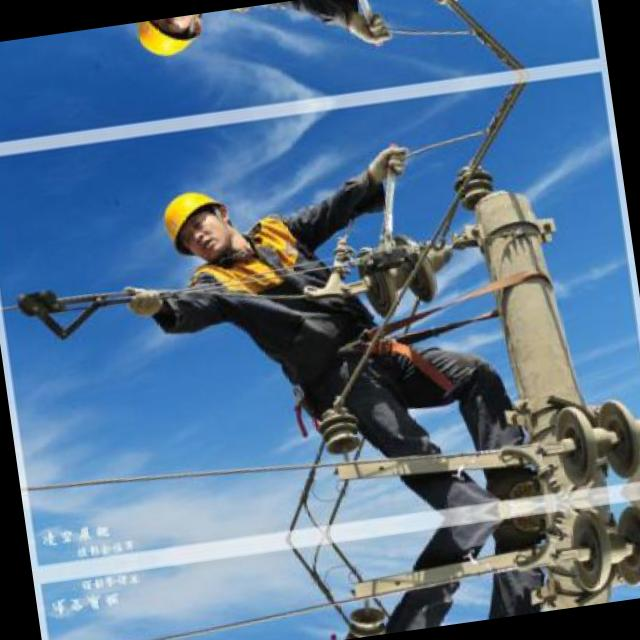helmet: (147, 177, 242, 271), (123, 12, 215, 72)
